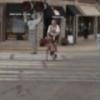bicycles: (46, 31, 61, 62)
